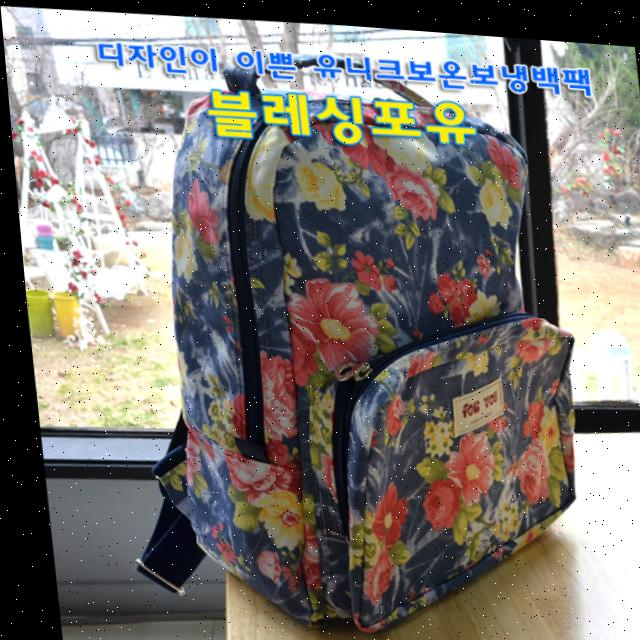backpack: (115, 39, 609, 640)
